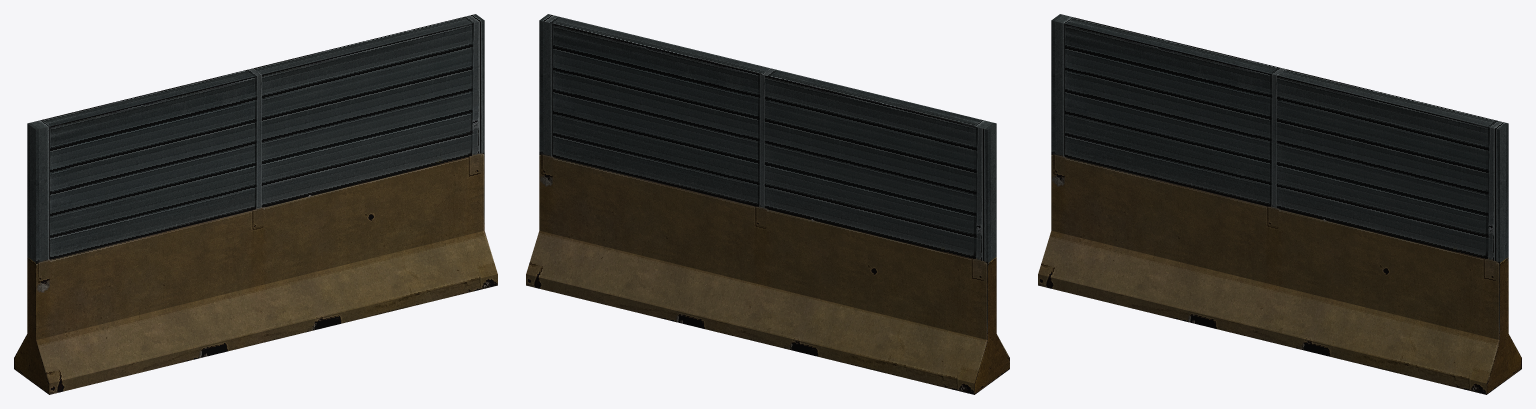
The model's file is barricade_a_3.glb.
3 renders of one model, left to right at view 1: azimuth 30°, elevation 25°; view 2: azimuth 150°, elevation 25°; view 3: azimuth 330°, elevation 25°, orthographic.
Visible parts, largest first — view 1: barricade_a_3; view 2: barricade_a_3; view 3: barricade_a_3.
Part boxes in pixels (box(x1,y1,x2,y2)): barricade_a_3: box(14, 14, 497, 394); barricade_a_3: box(526, 14, 1009, 394); barricade_a_3: box(1038, 14, 1521, 394).
Bounding box in the file's own units: 2.94 × 1.6 × 0.4.
1 material, 1 textured.
